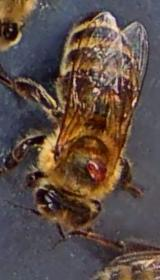varroa_mite: (76, 148, 114, 185)
